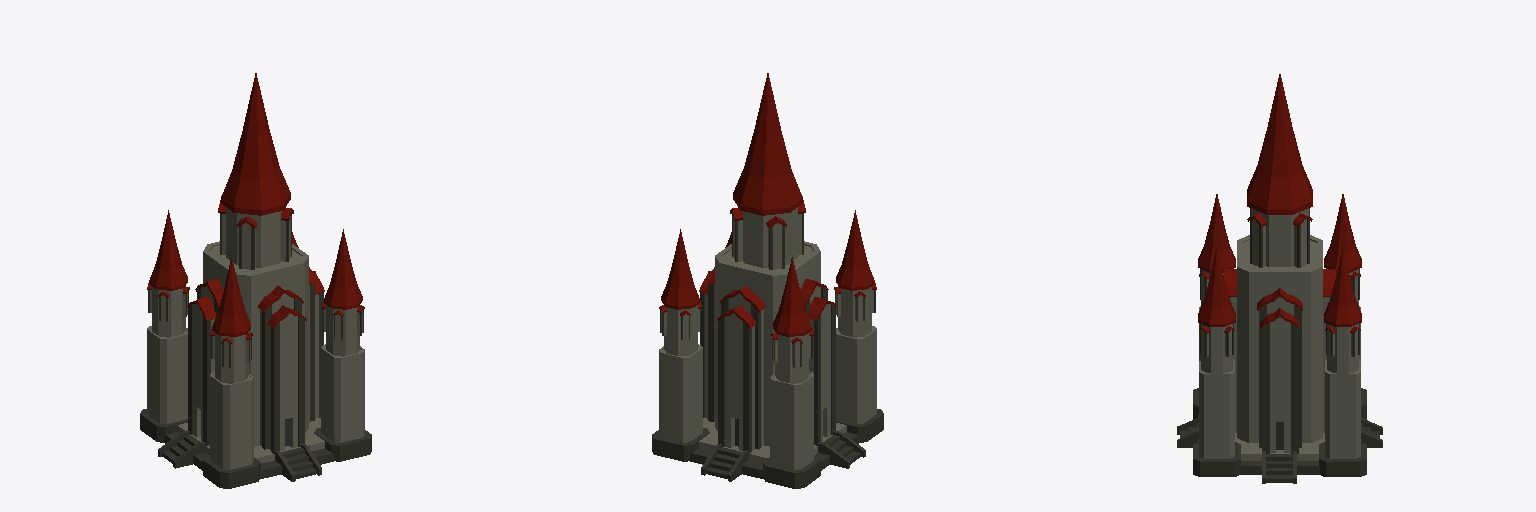
The model's file is Temple_SecondAge_Level3_Cube.obj.
3 views of the same model, side by side, from view 1: azimuth 30°, elevation 25°; view 2: azimuth 150°, elevation 25°; view 3: azimuth 270°, elevation 25° (orthographic).
Visible parts, largest first — view 1: Temple_SecondAge_Level3_Cube.223; view 2: Temple_SecondAge_Level3_Cube.223; view 3: Temple_SecondAge_Level3_Cube.223.
Boxes of the visible parts, box(x1,y1,x2,y2) form: Temple_SecondAge_Level3_Cube.223: box(140, 73, 371, 488); Temple_SecondAge_Level3_Cube.223: box(652, 73, 883, 488); Temple_SecondAge_Level3_Cube.223: box(1177, 74, 1382, 483).
Bounding box in the file's own units: 2.19 × 4.33 × 2.19.